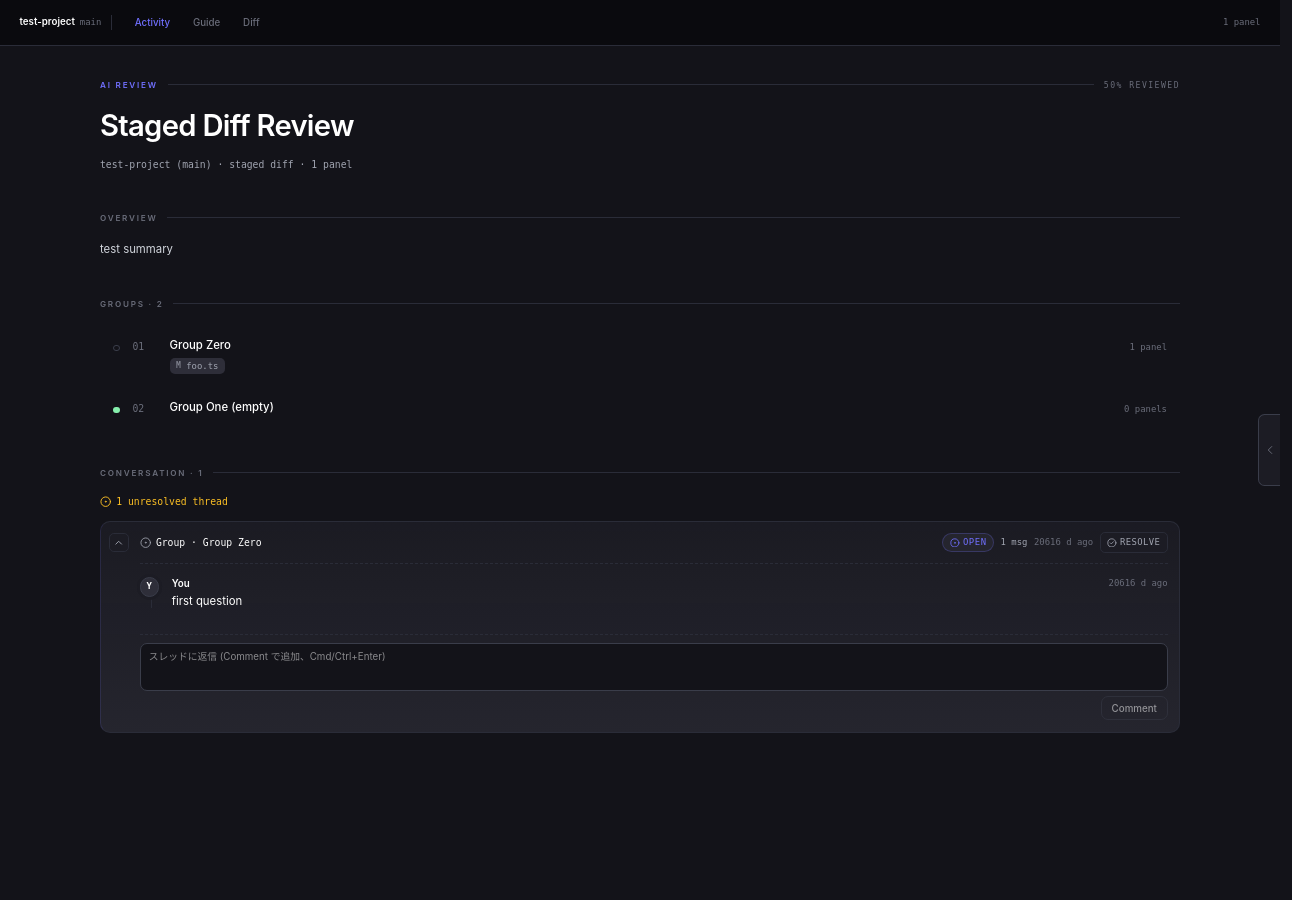
Scenario: Conversation カードの返信フォーム › 入力 → Comment 押下で timeline に user message が即追加され、textarea と draft がクリアされる
In the text box named "Reply to thread": (654, 667) x1=140 y1=643 x2=1168 y2=691, type "my reply"
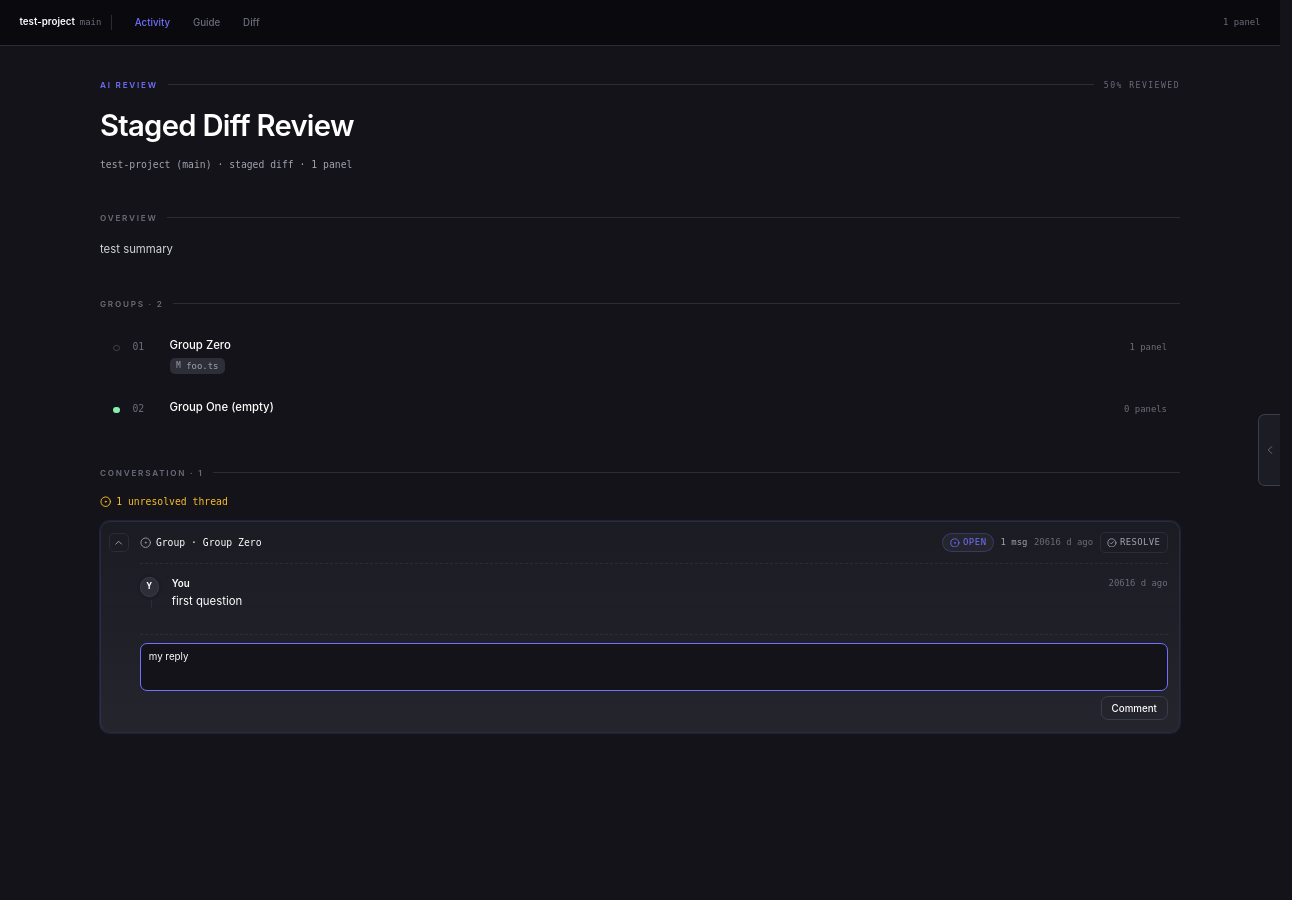
Click the button "Comment": (1134, 708) x1=1101 y1=696 x2=1168 y2=720
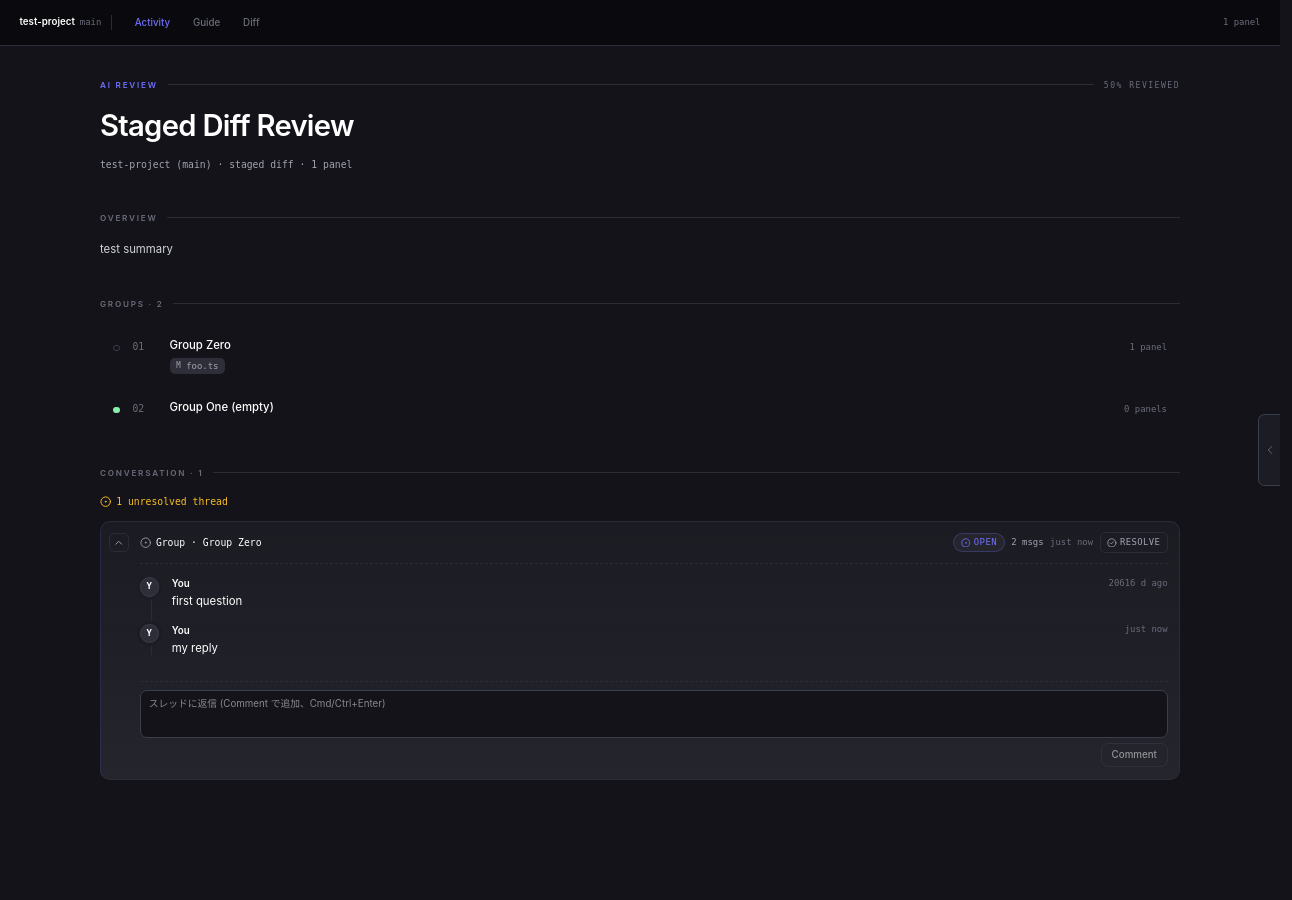
expect the text "my reply" is shown: met, box x1=172 y1=641 x2=218 y2=655
expect the text box named "Reply to thread" is empty: met, box x1=140 y1=690 x2=1168 y2=738
